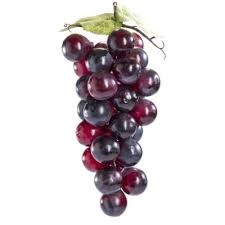Red Grapes: (59, 9, 170, 220)
